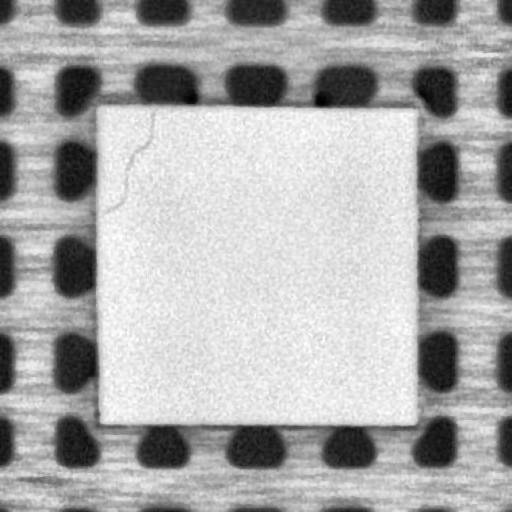DIE_CRACK: (104, 110, 153, 214)
